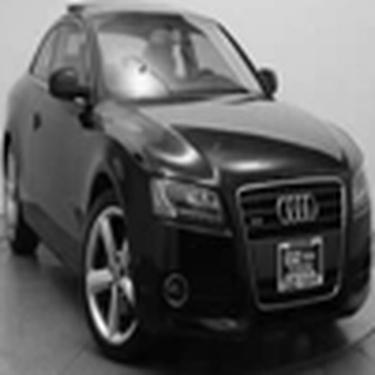car: (1, 3, 370, 372)
